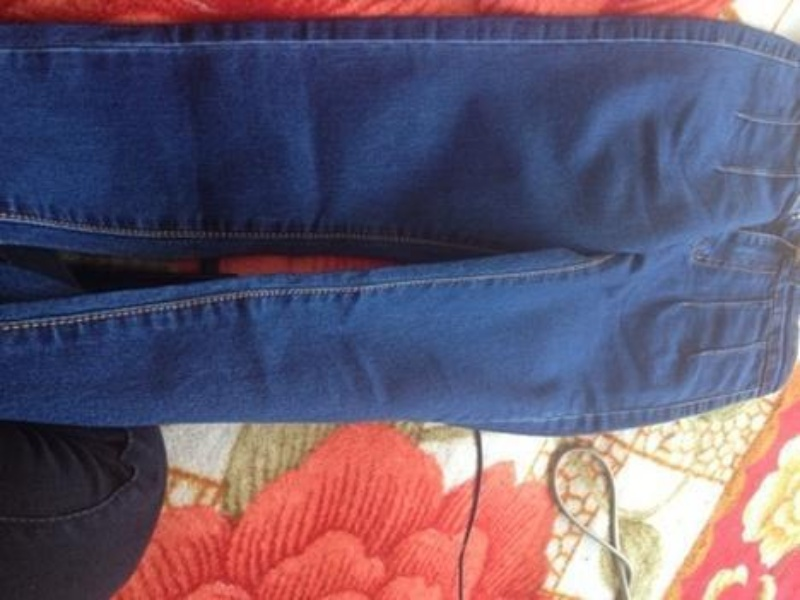trousers: (0, 10, 798, 438)
